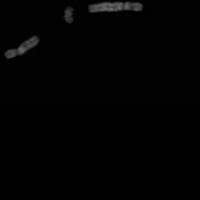chromosome: (4, 36, 39, 58), (89, 2, 142, 12), (63, 7, 72, 22)
